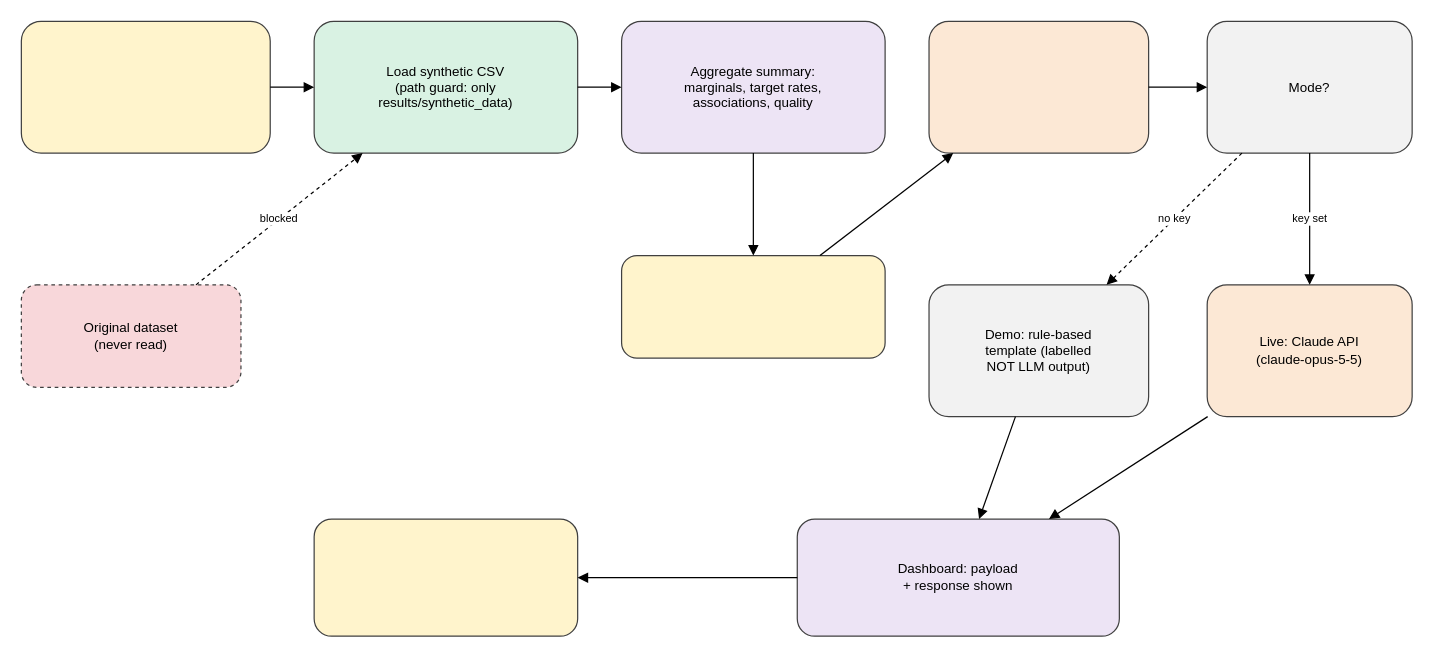
The diagram is 1434 pixels wide and 658 high, and some of its shapes have lost their labels. Each missing label, with the centre of its shape:
"Audit JSON: prompt, hash, mode, model, usage" goes at point (445, 577).
"Catalogue DP runs (log: completed, DP, latest record)" goes at point (145, 86).
"Prompt template (kd-prompt-v1)" goes at point (1038, 86).
"Small-cell suppression (k ≥ 20) + rounding" goes at point (752, 306).
